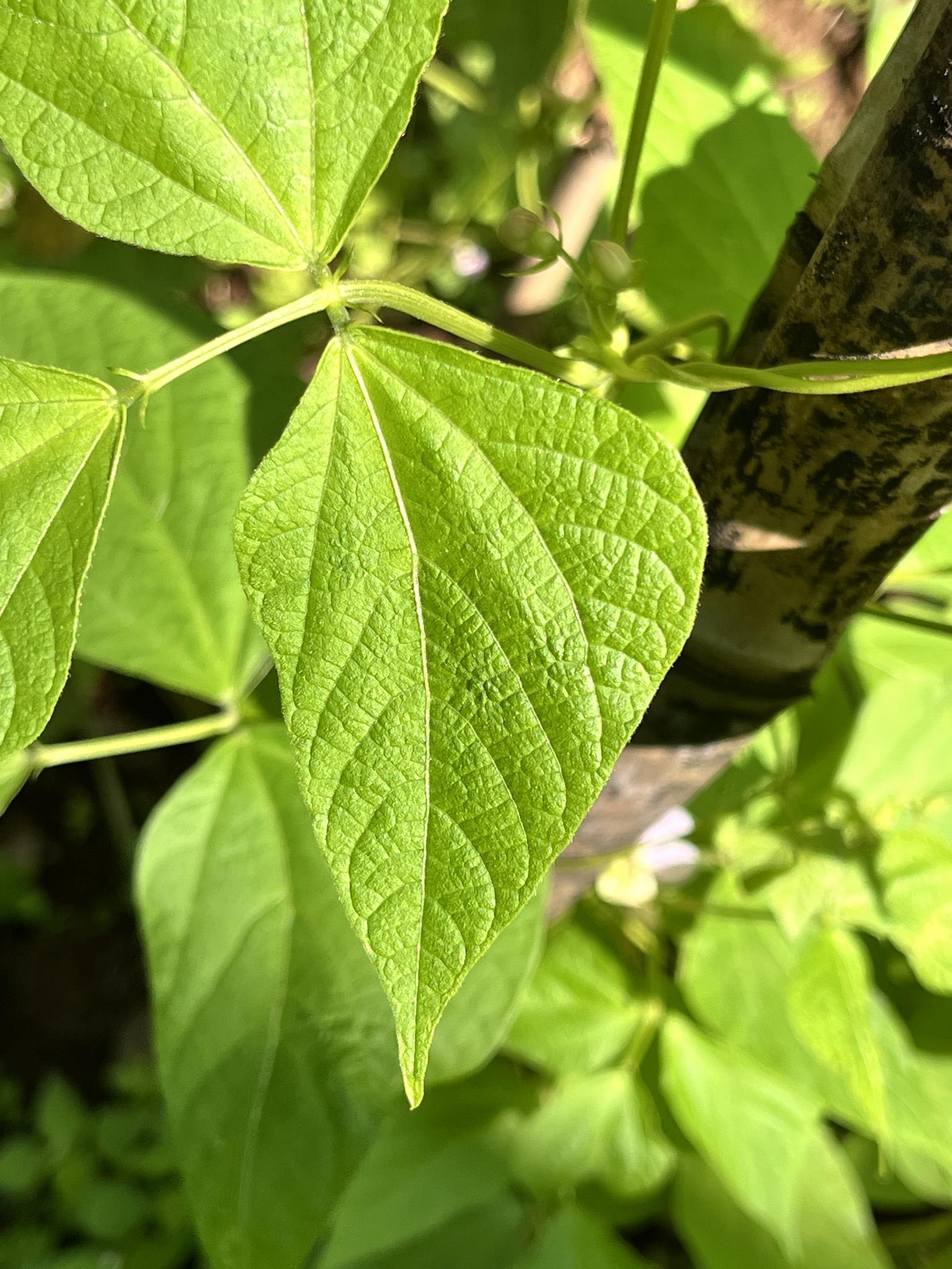sehat: (238, 318, 706, 1116)
